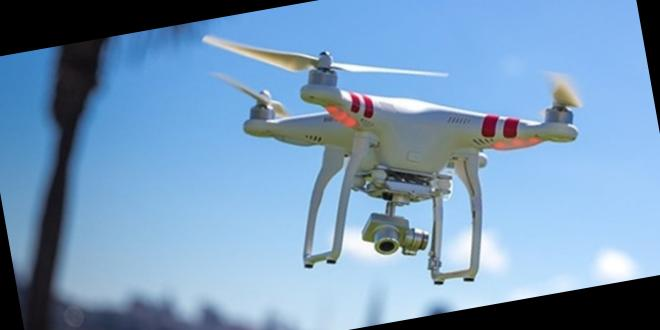drone: (186, 0, 602, 238)
